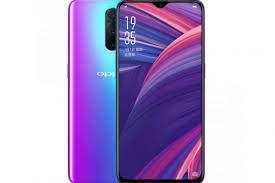oppo: (63, 1, 210, 181)
